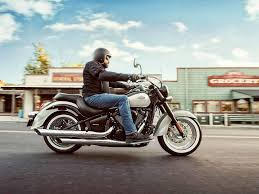motorcycle: (26, 62, 205, 159)
